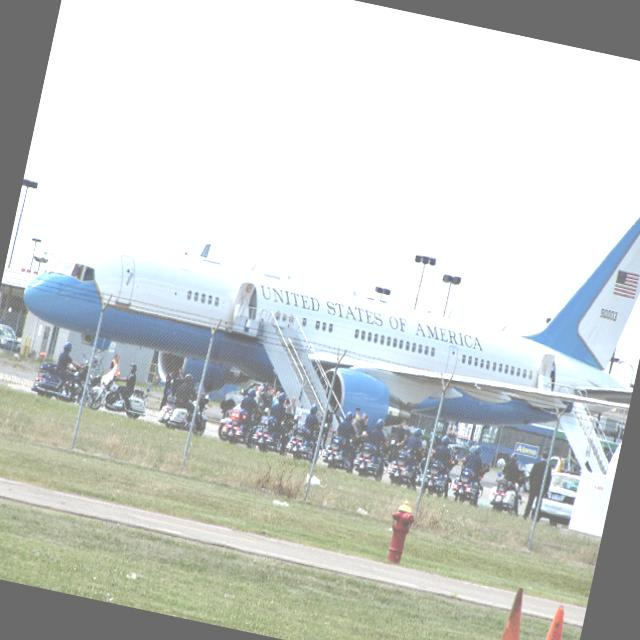Vehicle: (214, 410, 335, 463), (84, 359, 155, 422), (30, 348, 99, 407), (528, 466, 581, 530), (156, 381, 214, 436), (485, 464, 531, 518), (420, 442, 459, 500), (383, 444, 426, 492), (448, 466, 486, 507), (284, 423, 320, 466), (222, 405, 256, 448), (351, 438, 386, 479), (250, 413, 280, 452), (324, 432, 346, 470), (0, 320, 19, 351)
